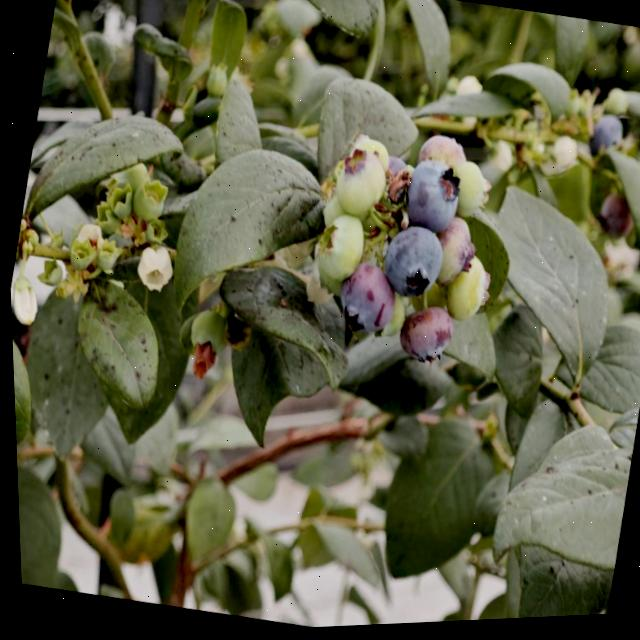RipeBlueBerry: (376, 223, 449, 309), (397, 159, 467, 240)
Semi-RipeBlueBerry: (331, 260, 402, 343), (391, 302, 457, 374)
UnripeBlueBerry: (329, 147, 393, 225), (309, 212, 370, 290)
